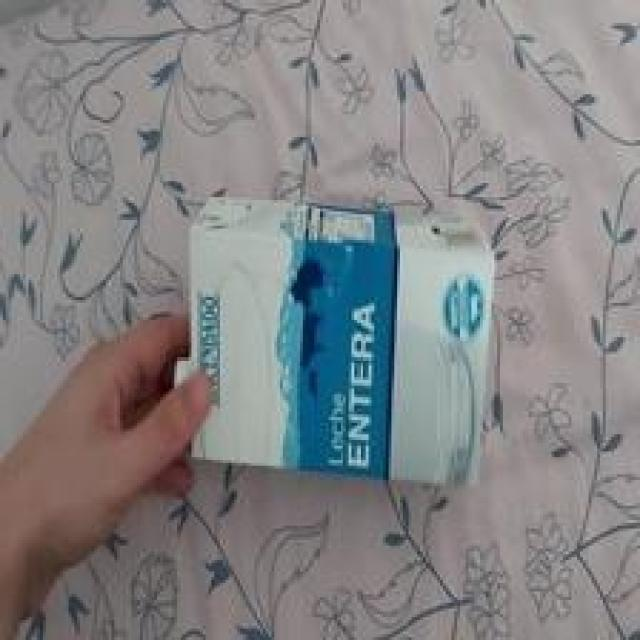Carton: (178, 188, 494, 494)
